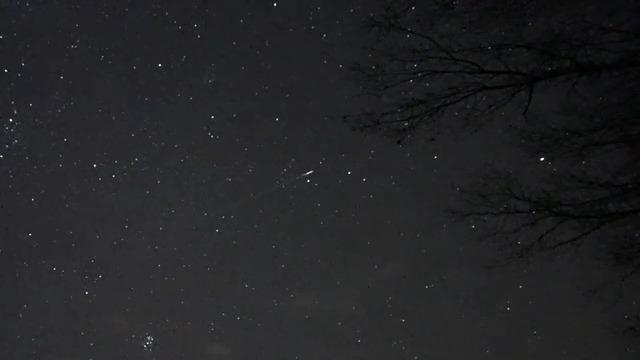meteorite: (254, 166, 321, 201)
